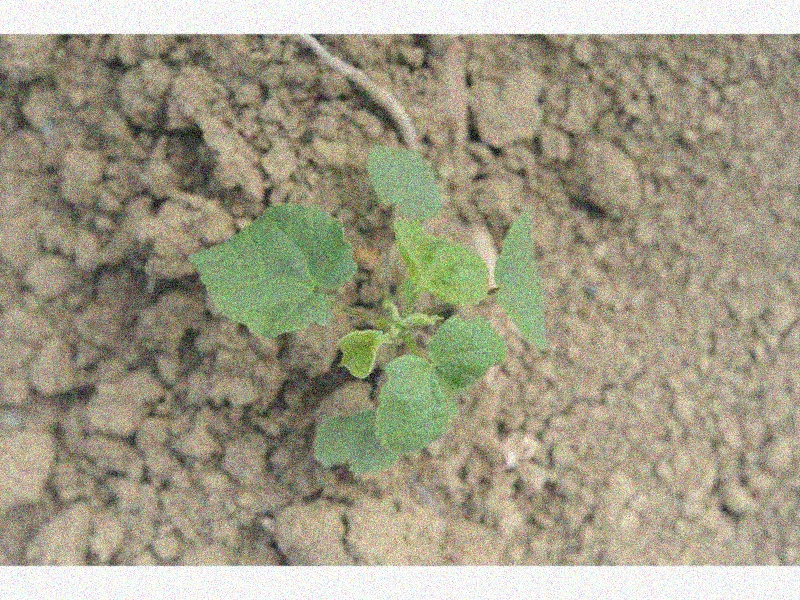velvet: (189, 144, 555, 478)
